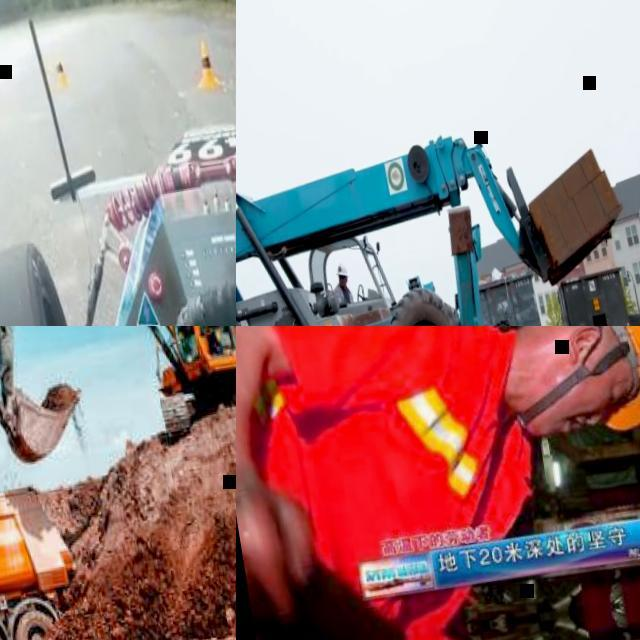helmet: (531, 326, 640, 441), (334, 261, 349, 278)
vest: (237, 336, 540, 618)
